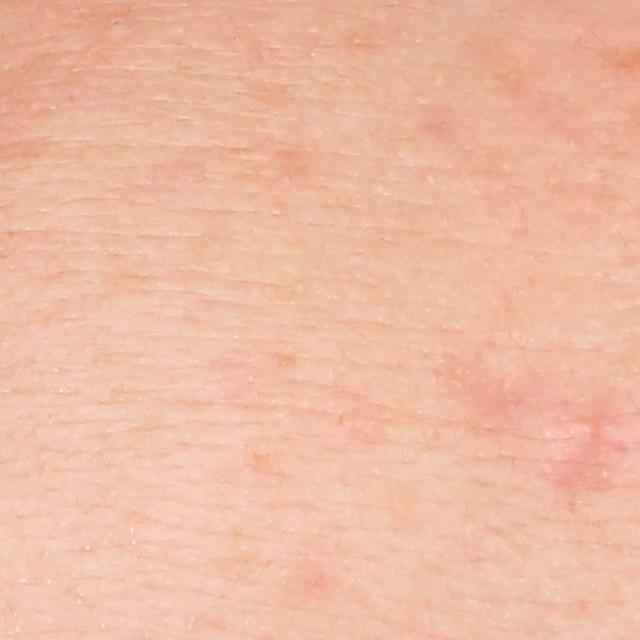comedo: (105, 12, 130, 33)
